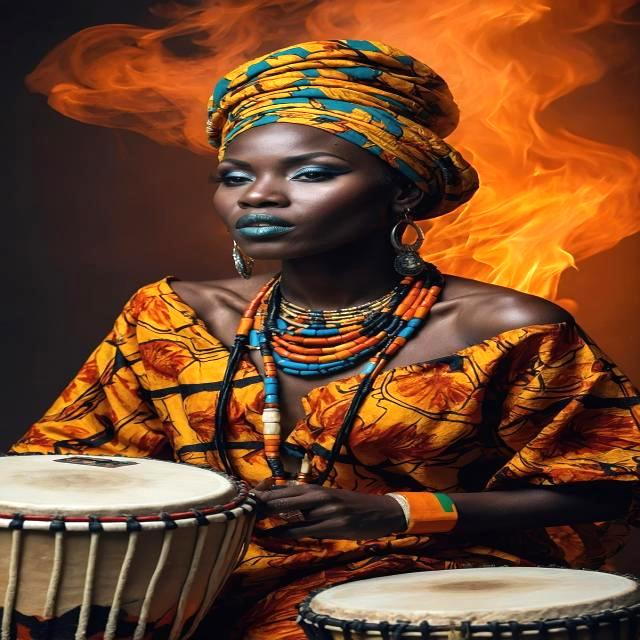no_hard_hat: (207, 40, 478, 220)
person: (17, 40, 639, 590)
